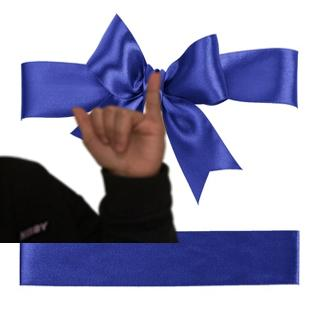HAVE: (68, 67, 172, 178)
